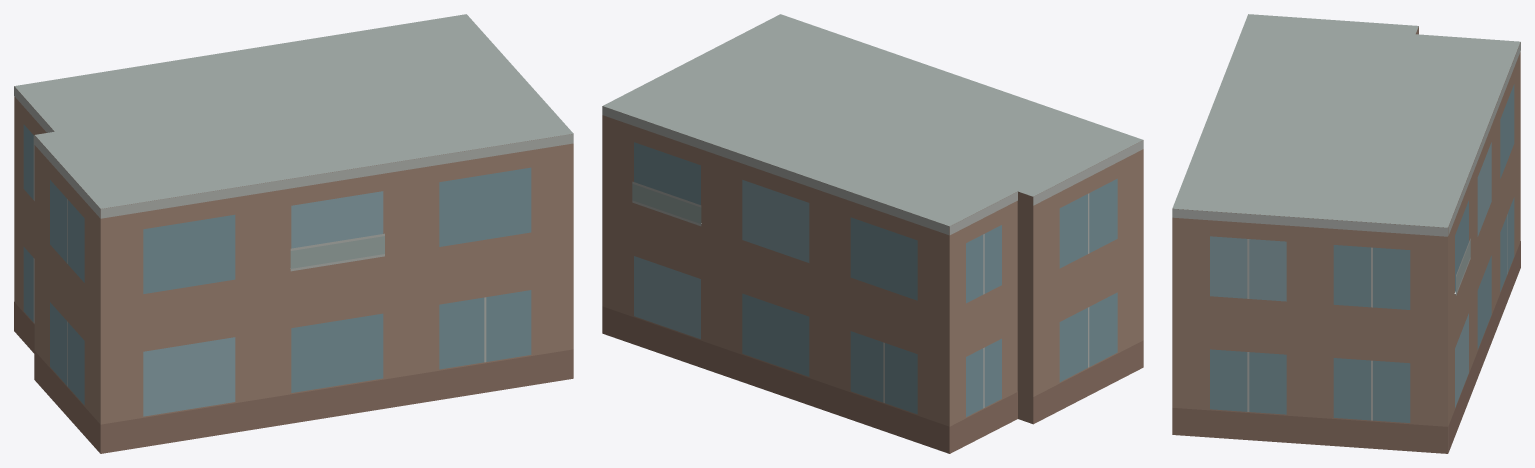
The model's file is survey-upis-32810529.glb.
3 views of the same model, side by side, from view 1: azimuth 30°, elevation 25°; view 2: azimuth 150°, elevation 25°; view 3: azimuth 270°, elevation 25° (orthographic). The views are drawn at different scales.
Parts seen in each view (by area): view 1: survey-upis-32810529.tmp; view 2: survey-upis-32810529.tmp; view 3: survey-upis-32810529.tmp.
Boxes of the visible parts, x1,y1,x2,y2 form: survey-upis-32810529.tmp: (14, 14, 573, 453); survey-upis-32810529.tmp: (602, 14, 1143, 453); survey-upis-32810529.tmp: (1172, 14, 1520, 453).
Size of the model in its own units: 12.37 by 6.1 by 8.53.
